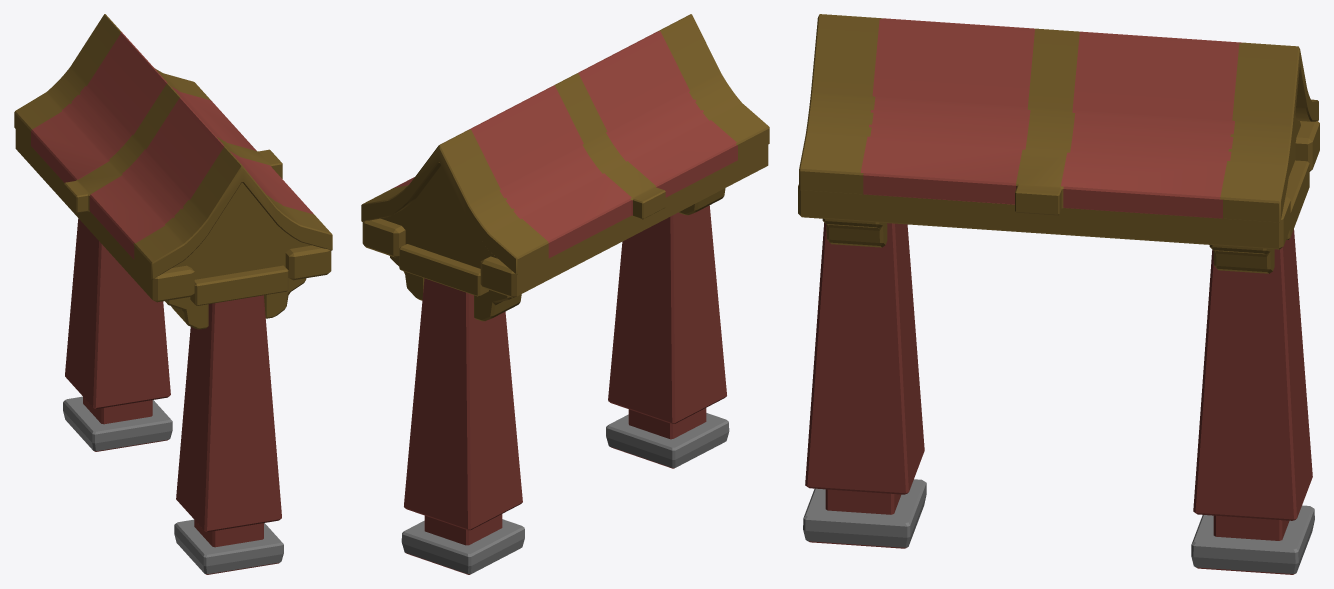
Rendered from Entrance.fbx.
3 renders of one model, left to right at view 1: azimuth 30°, elevation 25°; view 2: azimuth 150°, elevation 25°; view 3: azimuth 270°, elevation 25°, orthographic. The views are drawn at different scales.
Parts seen in each view (by area): view 1: Cube, Cube.003, Plane, Cube.002, Cube.001, Cube.004; view 2: Cube, Cube.003, Cube.002, Plane, Cube.001, Cube.004; view 3: Cube.003, Cube, Cube.002, Cube.004, Cube.001.
Part boxes in pixels (bbox=[...]): Cube: bbox=[63, 218, 283, 574]; Cube.003: bbox=[14, 14, 332, 279]; Plane: bbox=[172, 183, 311, 279]; Cube.002: bbox=[15, 129, 331, 302]; Cube.001: bbox=[190, 265, 288, 305]; Cube.004: bbox=[165, 278, 306, 329]; Cube: bbox=[401, 205, 729, 574]; Cube.003: bbox=[361, 14, 769, 274]; Cube.002: bbox=[362, 145, 768, 297]; Plane: bbox=[381, 166, 497, 268]; Cube.001: bbox=[399, 244, 488, 296]; Cube.004: bbox=[390, 188, 725, 321]; Cube.003: bbox=[799, 14, 1318, 222]; Cube: bbox=[803, 222, 1314, 574]; Cube.002: bbox=[798, 121, 1319, 249]; Cube.004: bbox=[822, 218, 1274, 273]; Cube.001: bbox=[1285, 160, 1309, 239].
Bounding box in the file's own units: 496 × 873 × 814.
